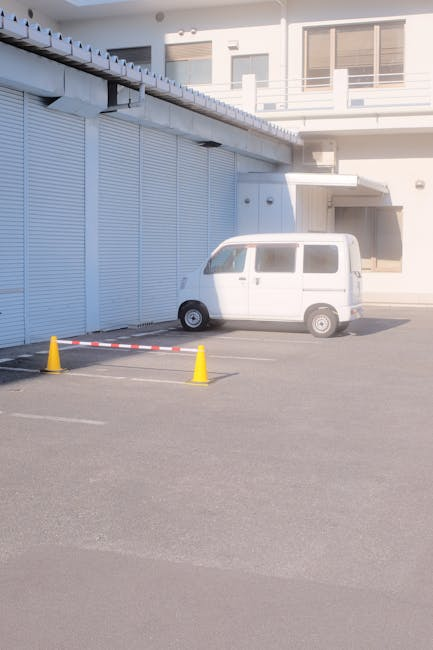traffic_cone: (39, 335, 69, 375), (186, 344, 212, 385)
